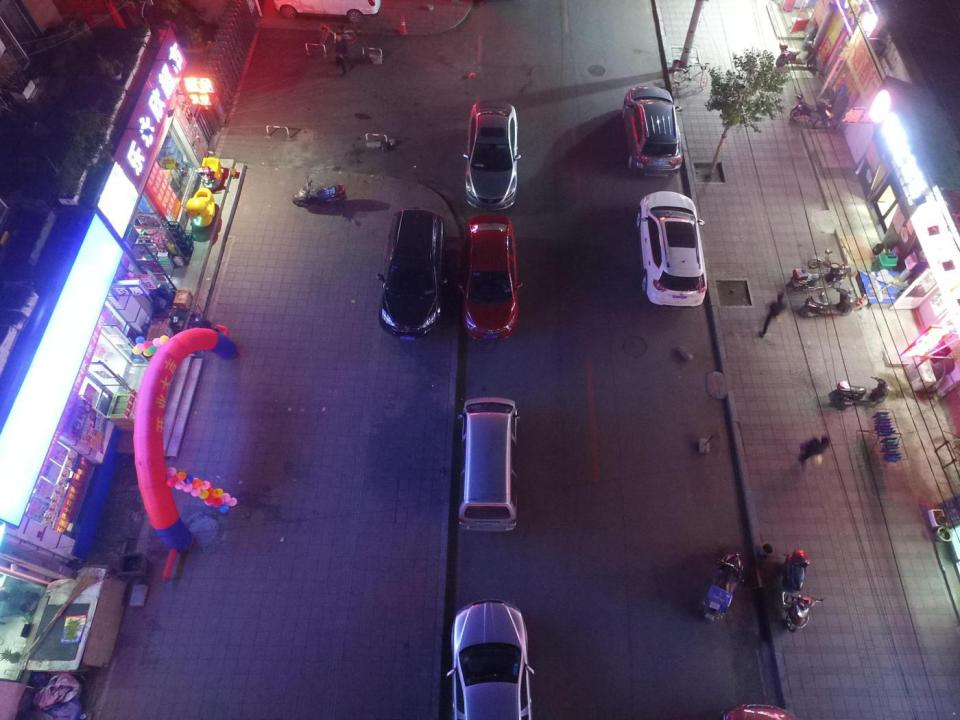car: (451, 598, 533, 719), (456, 214, 523, 339), (637, 191, 706, 309), (380, 209, 441, 340), (468, 98, 522, 210), (622, 85, 684, 176)
van: (460, 396, 521, 530), (274, 0, 379, 17)
